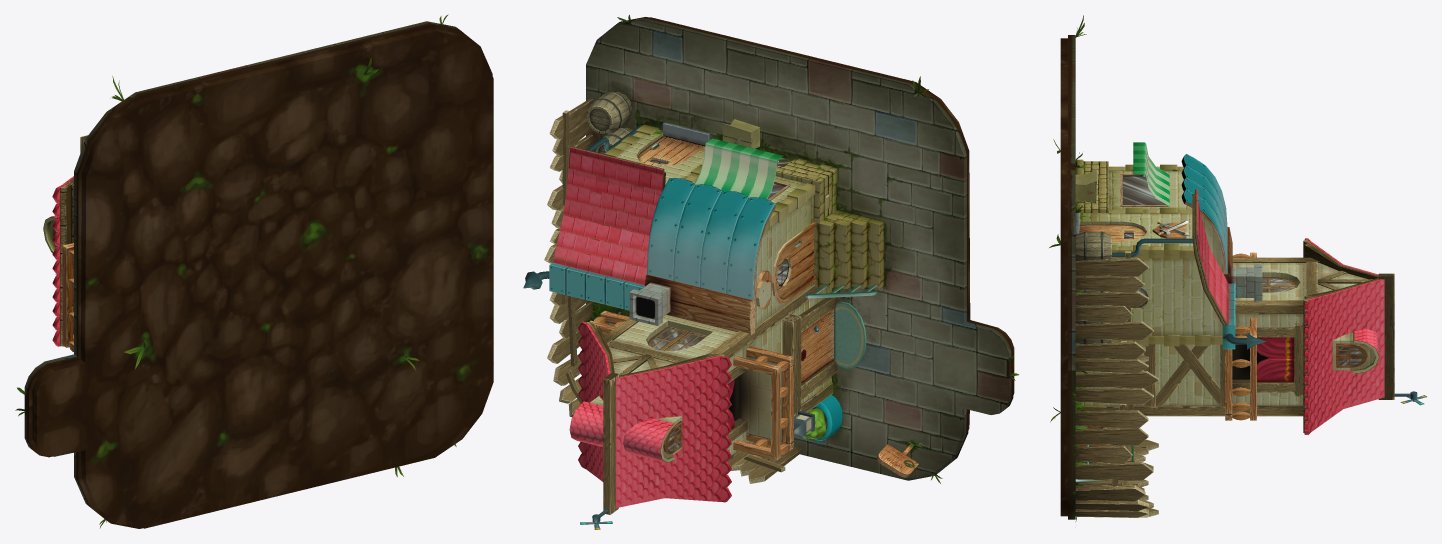
File: miniHouse.fbx
3 views of the same model, side by side, from view 1: azimuth 30°, elevation 25°; view 2: azimuth 150°, elevation 25°; view 3: azimuth 270°, elevation 25° (orthographic). The views are drawn at different scales.
Visible parts, largest first — view 1: miniHouse_Part4, miniHouse_Part1, miniHouse_Part4_grassStrands; view 2: miniHouse_Part4, miniHouse_Part1, miniHouse_Part2, miniHouse_Part3, miniHouse_Part4_grassStrands; view 3: miniHouse_Part1, miniHouse_Part3, miniHouse_Part2, miniHouse_Part4, miniHouse_Part4_grassStrands.
Boxes of the visible parts, <box> form: miniHouse_Part4: <box>24,21,493,528</box>; miniHouse_Part1: <box>43,135,87,351</box>; miniHouse_Part4_grassStrands: <box>15,14,456,528</box>; miniHouse_Part4: <box>586,17,1014,480</box>; miniHouse_Part1: <box>569,284,866,523</box>; miniHouse_Part2: <box>605,119,884,335</box>; miniHouse_Part3: <box>523,92,802,483</box>; miniHouse_Part4_grassStrands: <box>617,14,1019,483</box>; miniHouse_Part1: <box>1075,238,1417,446</box>; miniHouse_Part3: <box>1075,189,1266,517</box>; miniHouse_Part2: <box>1075,142,1262,481</box>; miniHouse_Part4: <box>1060,35,1075,519</box>; miniHouse_Part4_grassStrands: <box>1049,15,1088,521</box>.
Size of the model in its own units: 327 by 303 by 266.
Materials: 5 (5 with a texture image).
